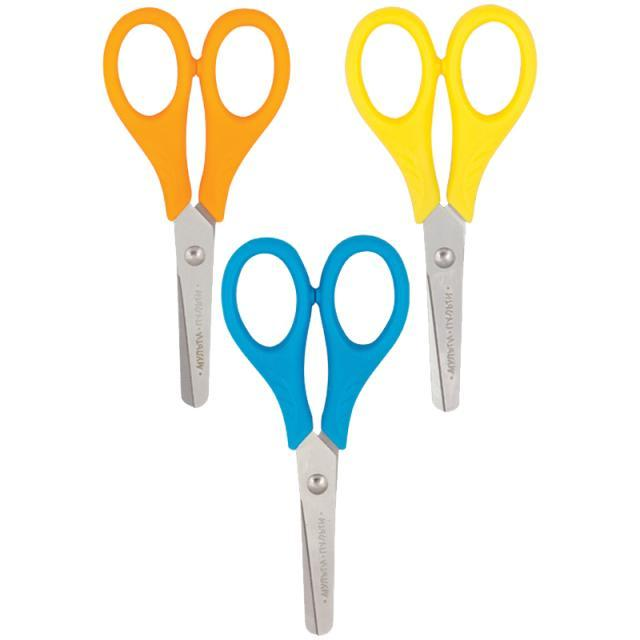tesoura: (317, 1, 557, 420), (80, 3, 303, 417), (218, 230, 412, 638)
